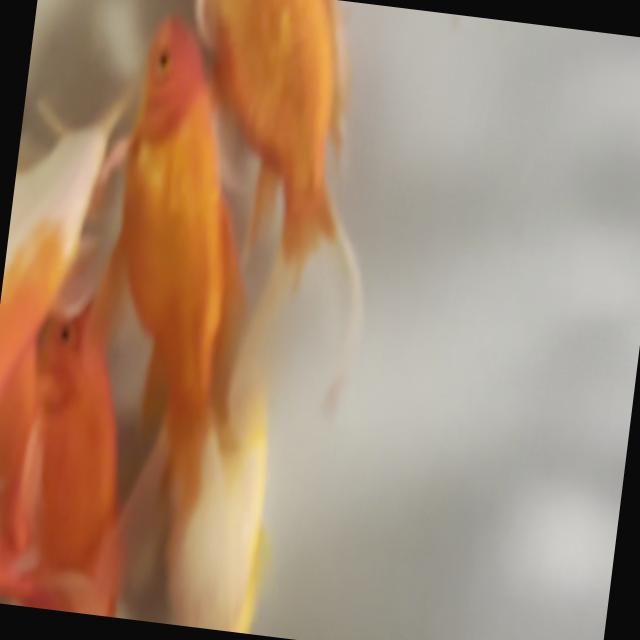fish: (74, 6, 283, 526), (146, 0, 393, 383), (0, 272, 164, 618), (150, 367, 296, 636), (0, 192, 93, 506), (0, 459, 78, 610)
